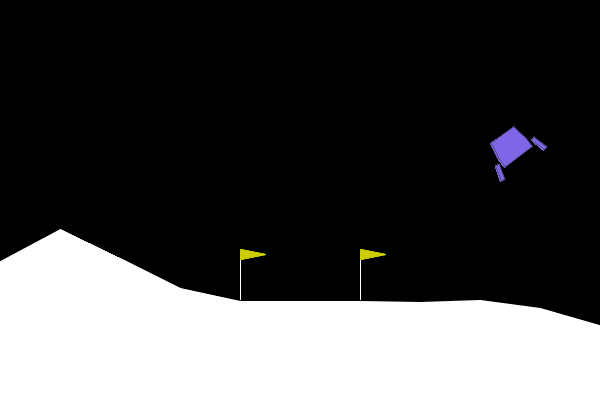lander: (477, 116, 549, 184)
